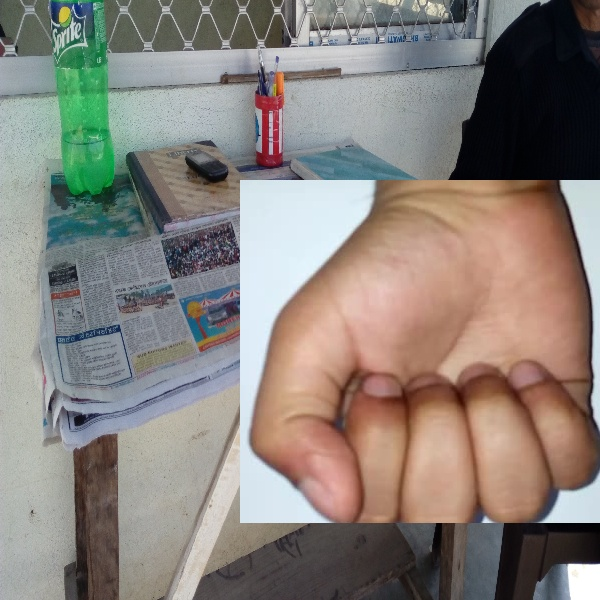A: (240, 180, 600, 523)
